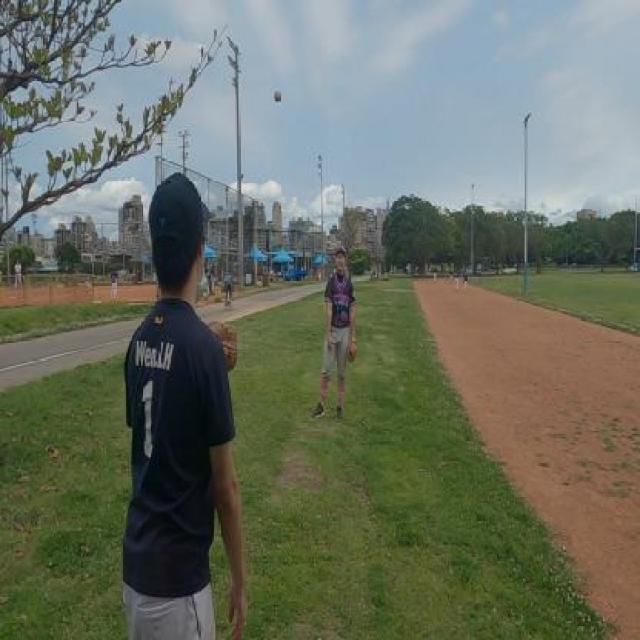baseball: (274, 90, 280, 102)
